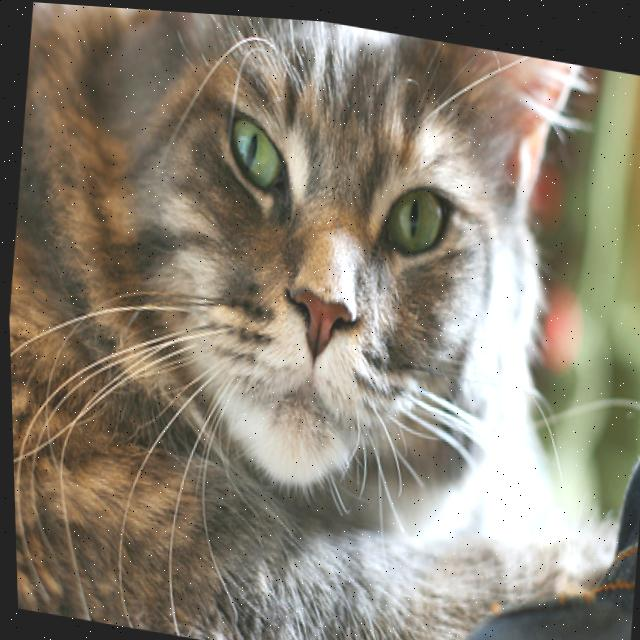Maine Coon: (0, 0, 613, 640)
